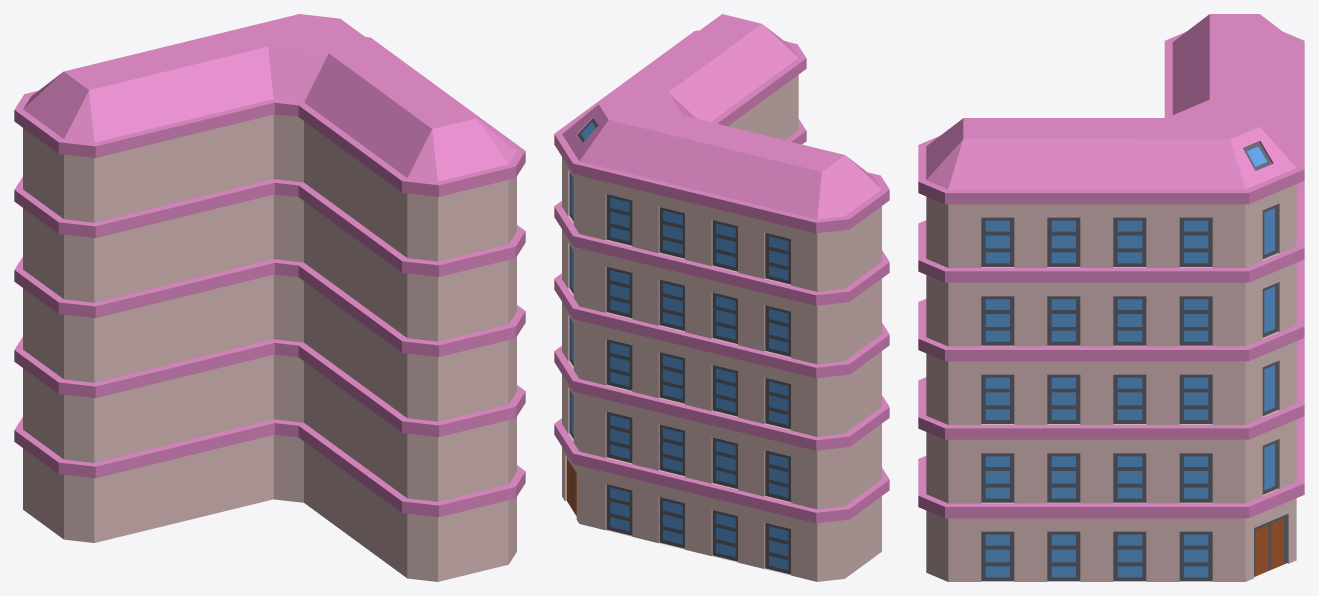
The picture shows the model from 3 angles, left to right: view 1: azimuth 30°, elevation 25°; view 2: azimuth 150°, elevation 25°; view 3: azimuth 270°, elevation 25°; orthographic projection. The views are drawn at different scales.
Visible parts, largest first — view 1: Predio 6.003; view 2: Predio 6.003; view 3: Predio 6.003.
Part boxes in pixels (x1=…): Predio 6.003: x1=14, y1=14, x2=525, y2=581; Predio 6.003: x1=554, y1=14, x2=889, y2=581; Predio 6.003: x1=918, y1=14, x2=1304, y2=581.
Size of the model in its own units: 8946 by 10915 by 8946.
